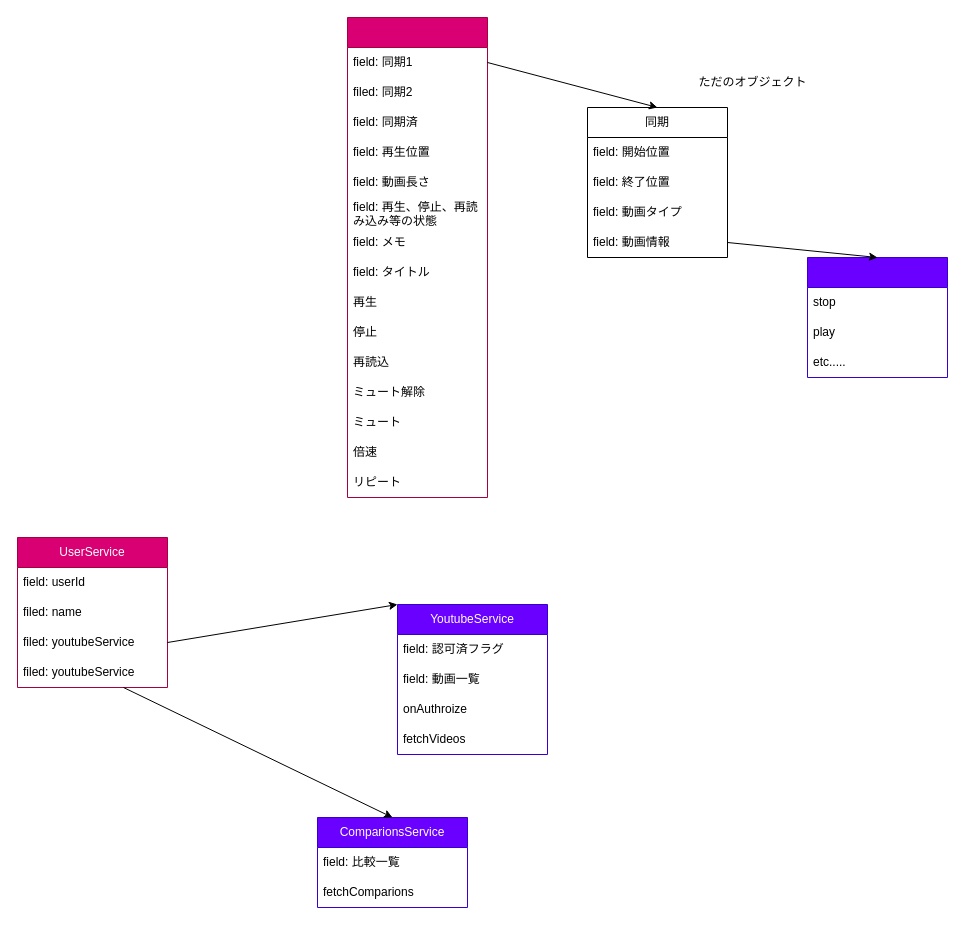
This 965x925 diagram has some shape labels left out. Here are the shapes that lost their labels. From the top down, the box of each, then its label:
(346, 16, 488, 498): DualVideoPlayerService
(806, 256, 948, 378): VideoPlayerService
